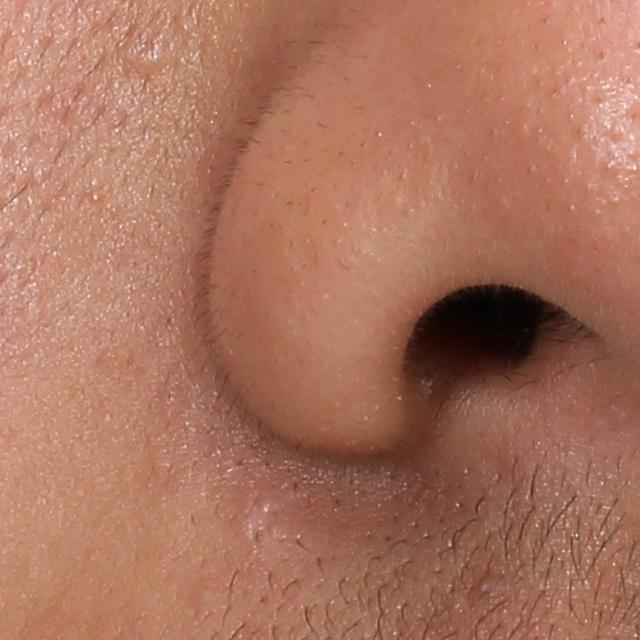comedo: (131, 42, 172, 79), (472, 571, 506, 601)
